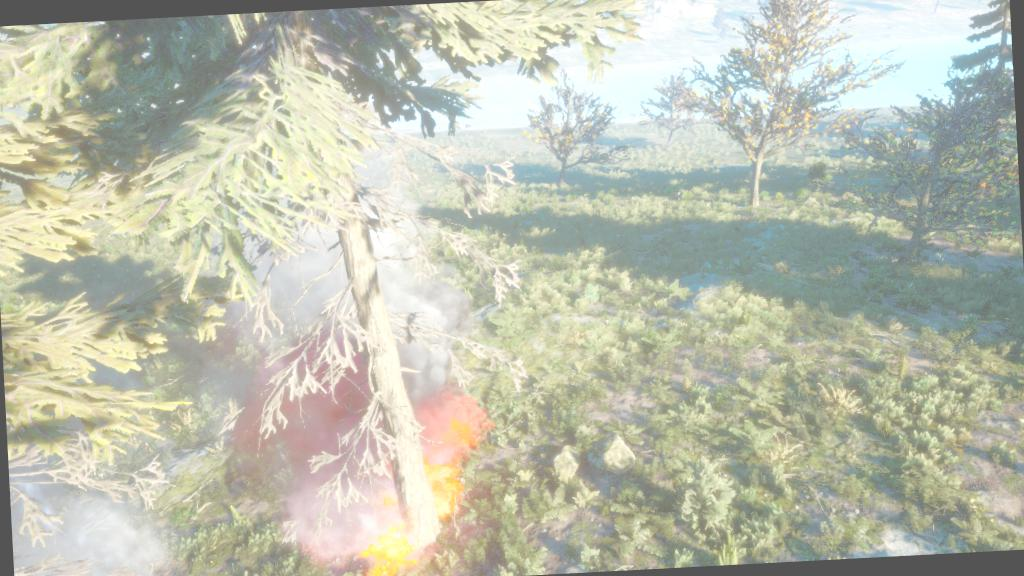Fire: (272, 375, 506, 575)
smoke: (260, 78, 482, 536), (8, 454, 188, 575)
